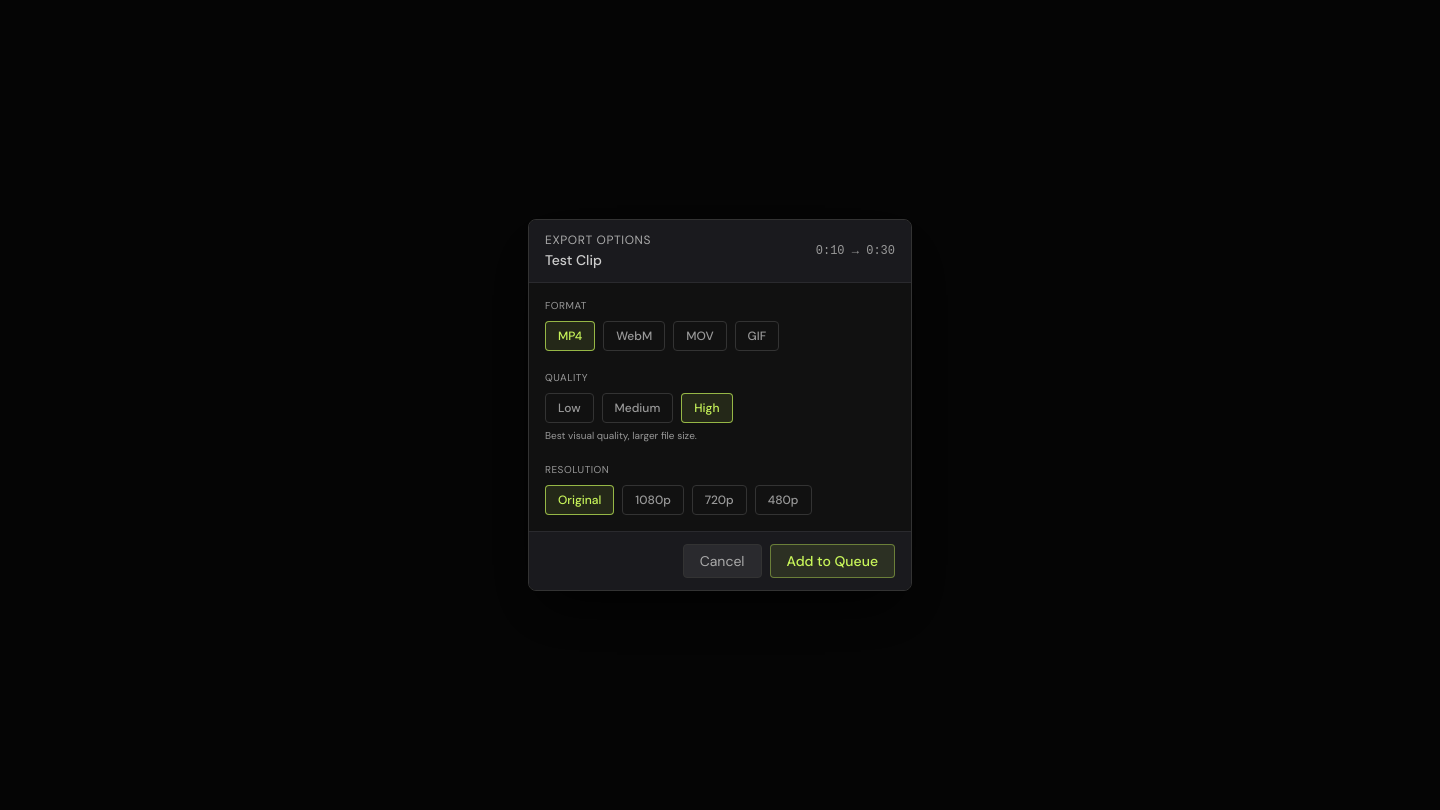
Test: ExportOptionsModal — quality descriptions › shows balanced quality description when Medium is selected
This screenshot has width=1440, height=810.
Step 1. Click the button "Medium" → (637, 408), box [602,393,673,423]
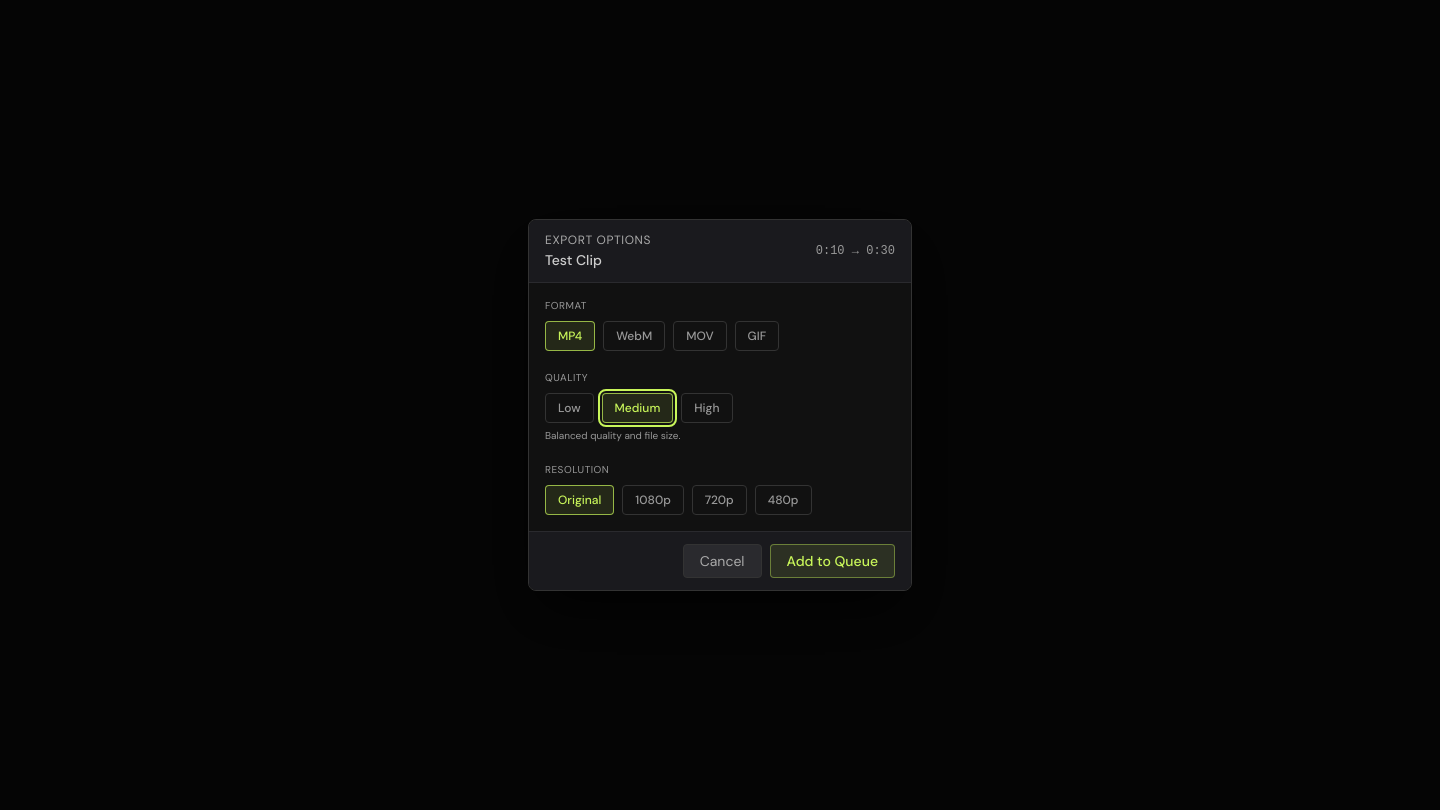
Check: the text "Balanced quality and file size." is shown, box [545,429,680,442]
